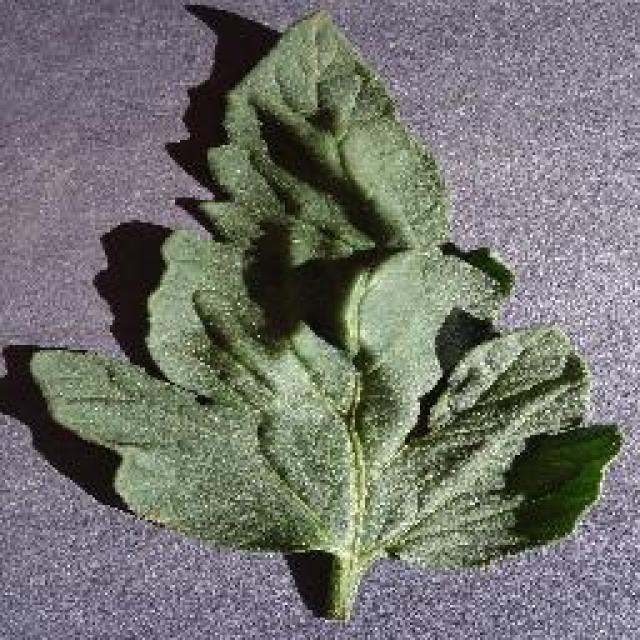Tomato___healthy: (26, 4, 623, 624)
